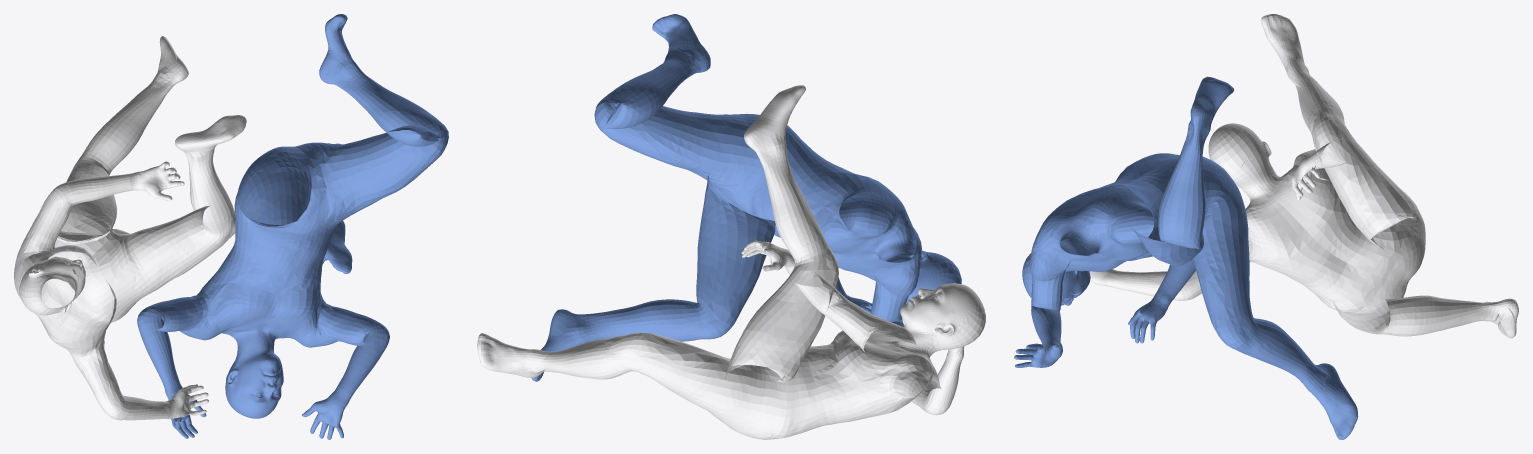
The model's file is double-leg-5-finish.glb.
3 views of the same model, side by side, from view 1: azimuth 30°, elevation 25°; view 2: azimuth 150°, elevation 25°; view 3: azimuth 270°, elevation 25° (orthographic). The views are drawn at different scales.
Parts seen in each view (by area): view 1: p1, p0; view 2: p0, p1; view 3: p0, p1.
Part boxes in pixels (x1,y1,x2,y2): p1: [137, 14, 448, 439]; p0: [14, 36, 246, 420]; p0: [477, 85, 985, 439]; p1: [531, 14, 961, 403]; p0: [1089, 14, 1518, 338]; p1: [1014, 76, 1358, 439].
Size of the model in its own units: 1.38 by 1.16 by 1.48.
